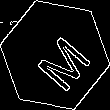M_NW: (22, 21, 88, 89)
